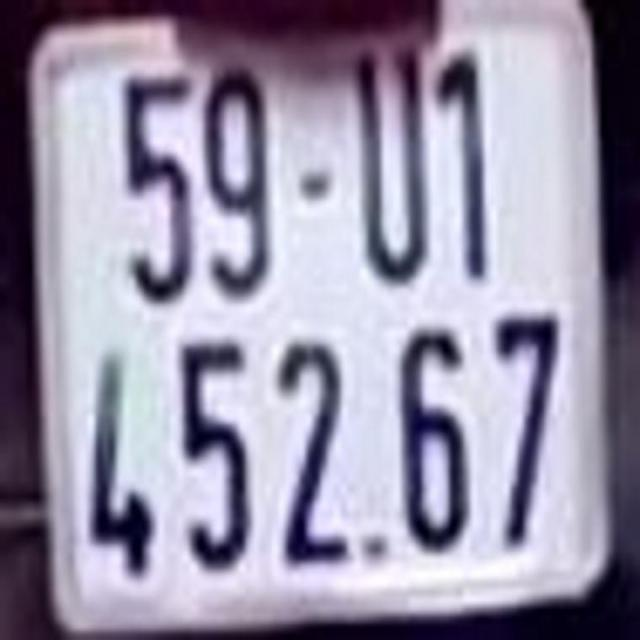1: (434, 51, 490, 276)
2: (277, 337, 347, 561)
4: (83, 347, 154, 568)
5: (121, 72, 195, 298), (180, 338, 248, 573)
6: (396, 327, 472, 547)
7: (491, 310, 557, 552)
9: (203, 68, 271, 298)
U: (361, 37, 432, 286)
